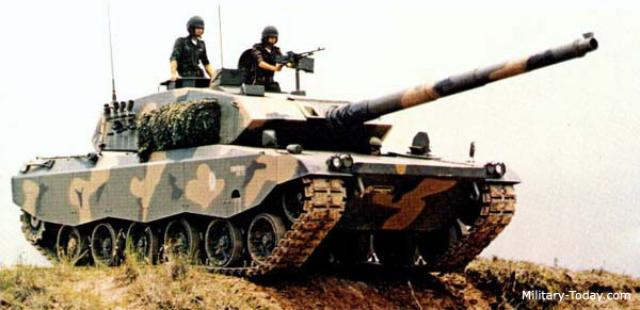other: (168, 10, 212, 79), (255, 21, 281, 86)
tank: (16, 73, 508, 263)
